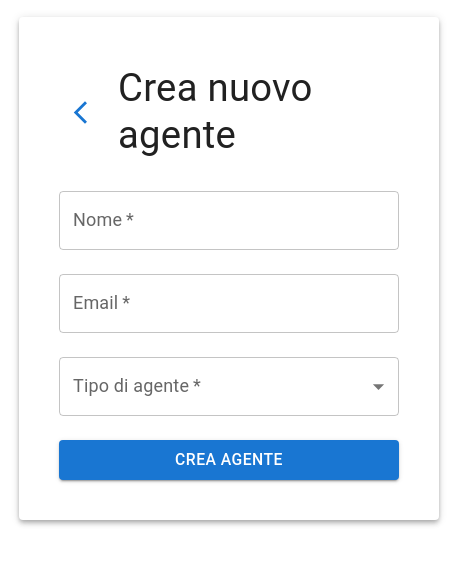
Scenario: CriarAgente › carrega os tipos de agente ao abrir a tela
Click the dropdown named "Tipo di agente": coordinates (229, 387) [59, 357, 399, 416]
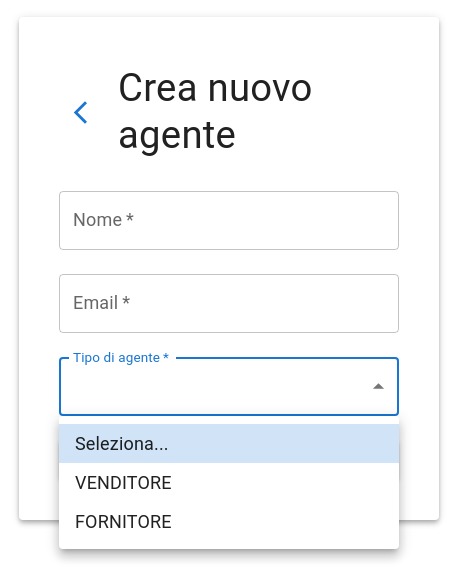
Result: the option "VENDITORE" is shown at [75, 472, 172, 493]
